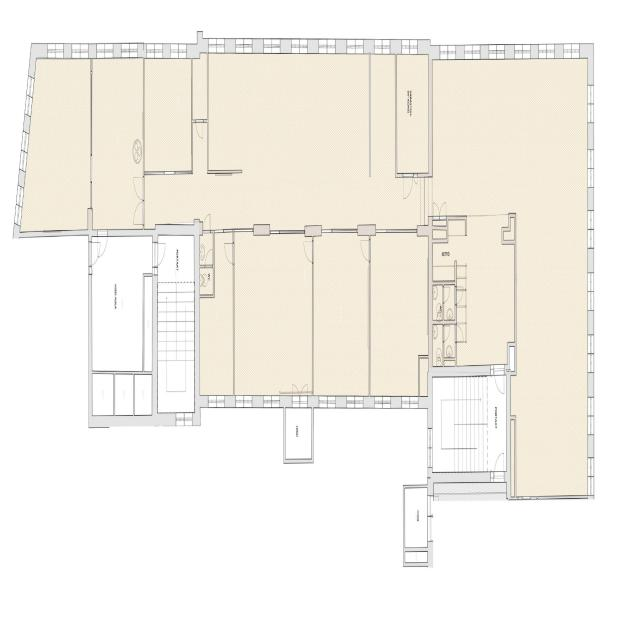door: (152, 244, 168, 266), (494, 448, 504, 483), (494, 365, 504, 400), (88, 243, 102, 266), (403, 173, 413, 200), (133, 201, 144, 225), (133, 178, 144, 202), (98, 230, 107, 258), (292, 378, 300, 408), (300, 378, 307, 408), (224, 243, 234, 264), (303, 242, 313, 262), (361, 241, 370, 261), (454, 287, 464, 304), (454, 325, 464, 342), (195, 119, 202, 140), (203, 213, 210, 233), (205, 248, 212, 267), (442, 326, 450, 342), (433, 202, 440, 220), (439, 202, 446, 220), (442, 287, 450, 302), (152, 266, 161, 274), (491, 464, 494, 483), (88, 266, 95, 274), (413, 174, 417, 188), (491, 366, 494, 384)
